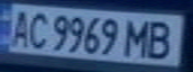6: (81, 15, 103, 55)
9: (96, 16, 124, 56), (48, 11, 69, 52), (66, 12, 87, 53)
A: (3, 7, 36, 48)
B: (142, 18, 181, 61)
C: (24, 9, 51, 50)
M: (121, 16, 154, 58)
